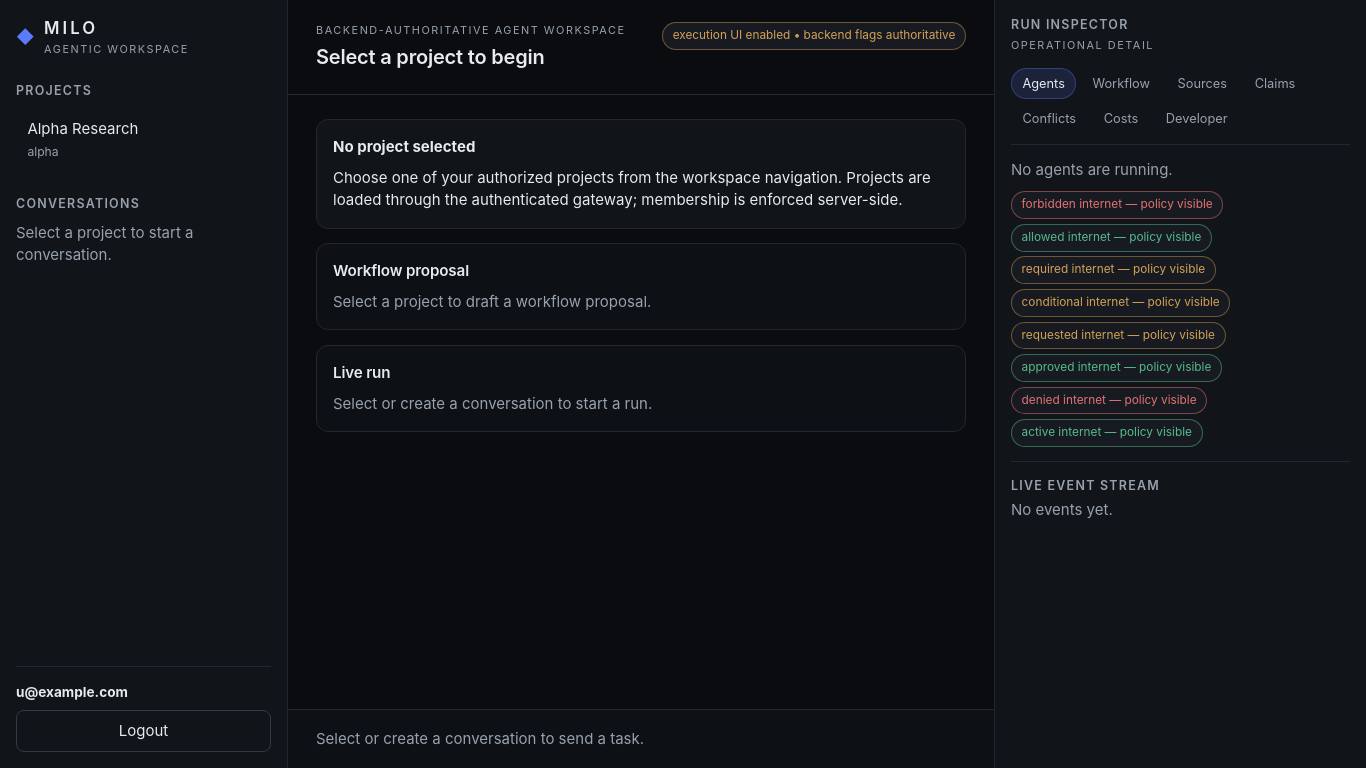
durable run history › reopens the newest run from the durable history when nothing is stored (browser restart)
Click the text "Alpha Research" at (83, 128), box [27,119,138,138]
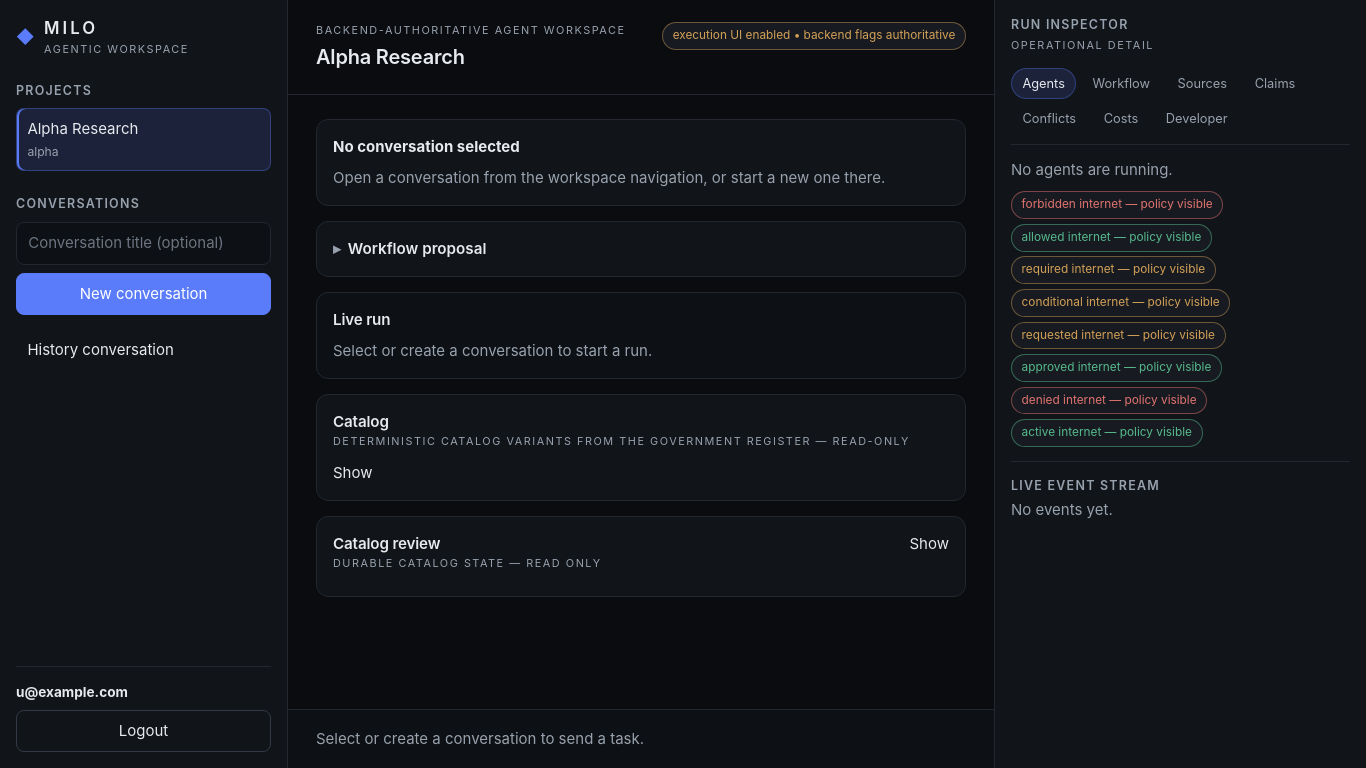
Click the button "History conversation" at (144, 350), box [16,329,271,371]
(page scrolled)
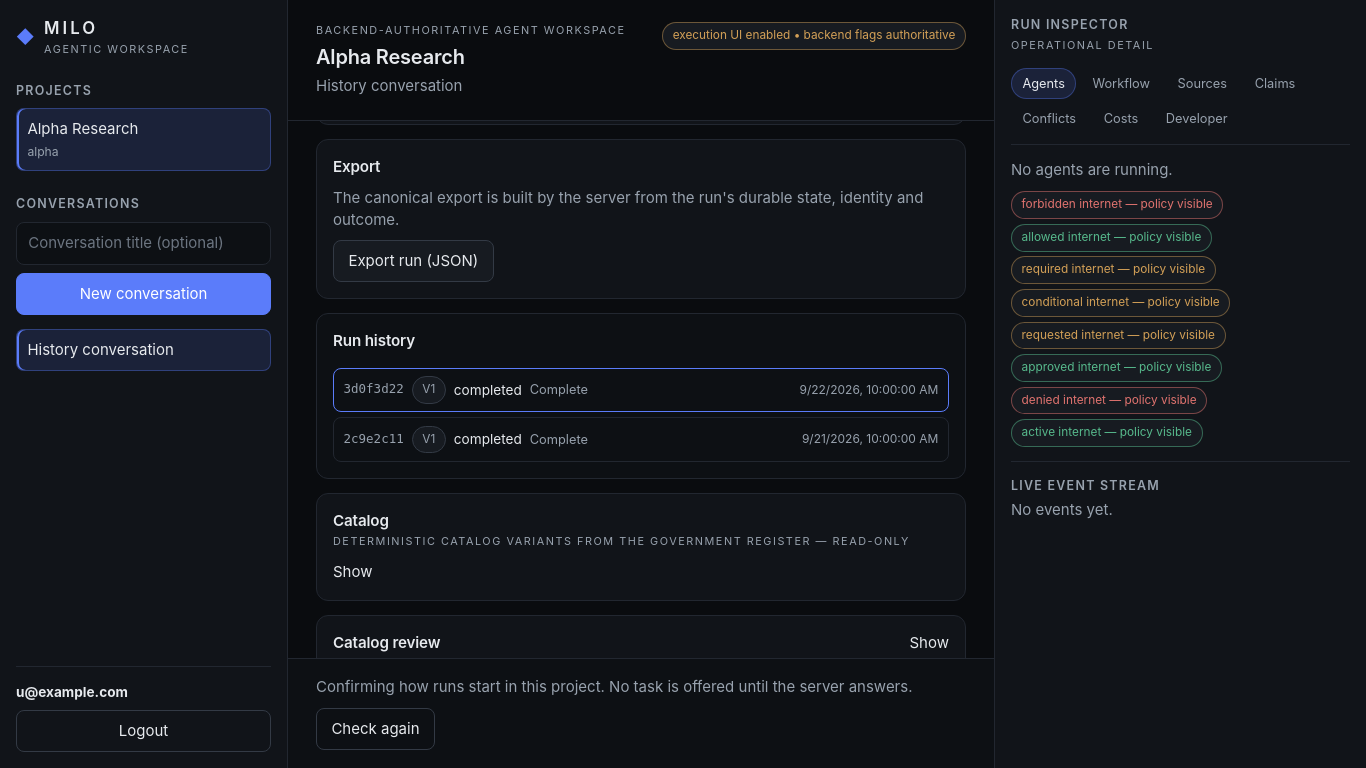
Now the button "3d0f3d22 V1 completed Complete 9/22/2026, 10:00:00 AM" is shown, box [333,368,949,412]
